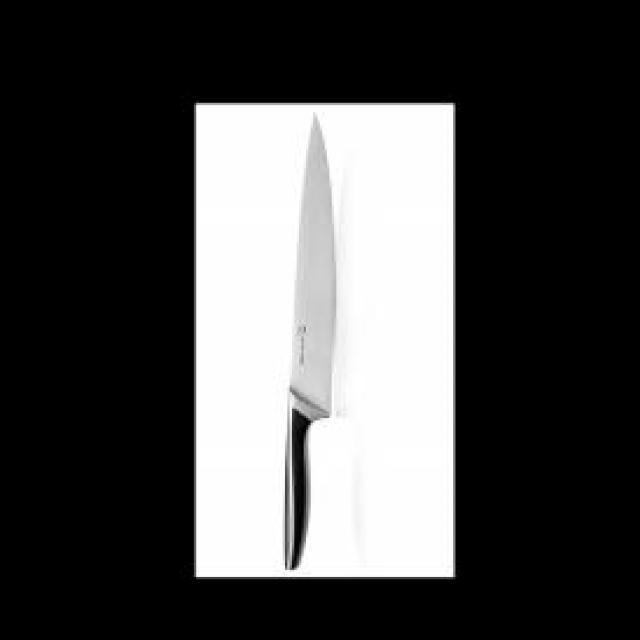knife: (283, 116, 342, 574)
